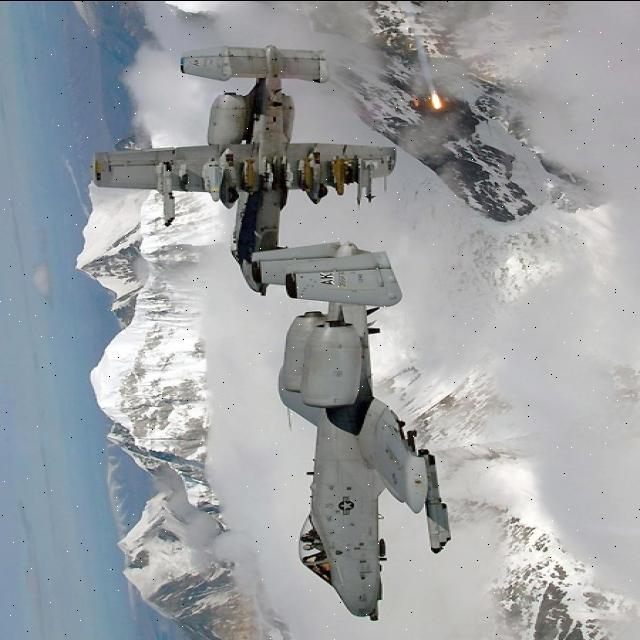A10: (214, 268, 532, 619), (37, 13, 404, 312)
